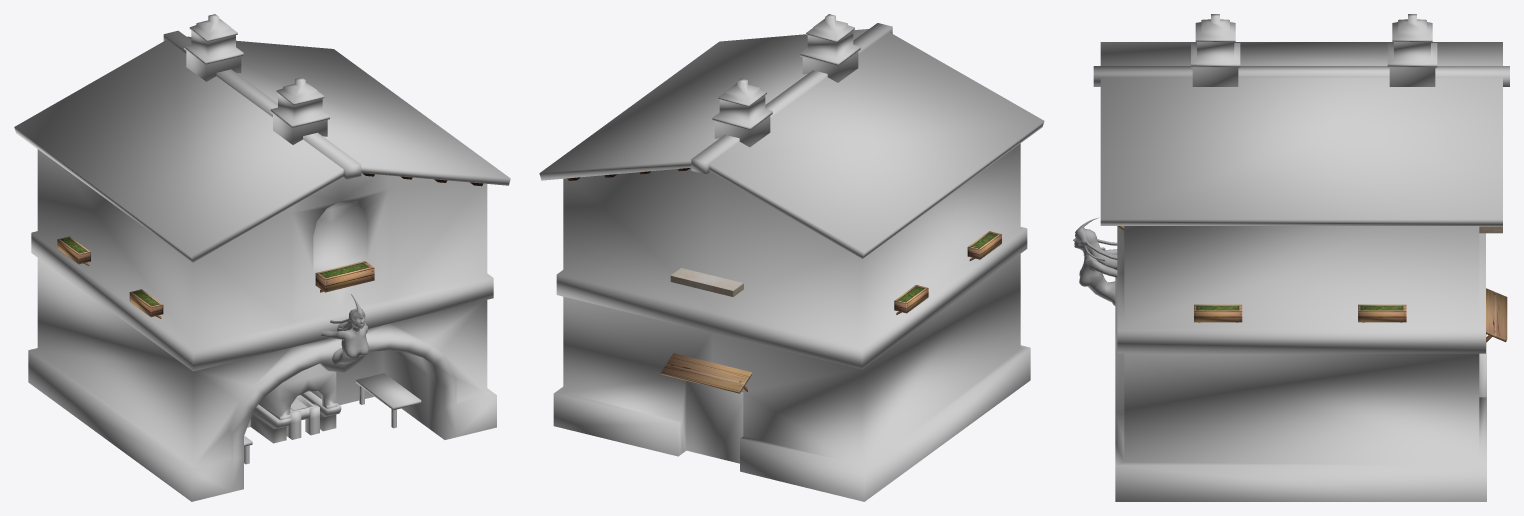
Rendered from FFP_House_06.fbx.
3 views of the same model, side by side, from view 1: azimuth 30°, elevation 25°; view 2: azimuth 150°, elevation 25°; view 3: azimuth 270°, elevation 25° (orthographic). The views are drawn at different scales.
Visible parts, largest first — view 1: polySurface376, polySurface359, Surface90; view 2: polySurface376, polySurface359; view 3: polySurface376, polySurface359, Surface90, Surface49.
Part boxes in pixels (x1,y1,x2,y2): polySurface376: (14, 14, 510, 501); polySurface359: (57, 236, 374, 318); Surface90: (321, 322, 368, 364); polySurface376: (539, 14, 1044, 501); polySurface359: (661, 231, 1001, 393); polySurface376: (1093, 14, 1509, 501); polySurface359: (1117, 226, 1507, 342); Surface90: (1079, 249, 1117, 305); Surface49: (1083, 229, 1117, 269).
Bounding box in the file's own units: 34.14 × 36 × 35.51.
